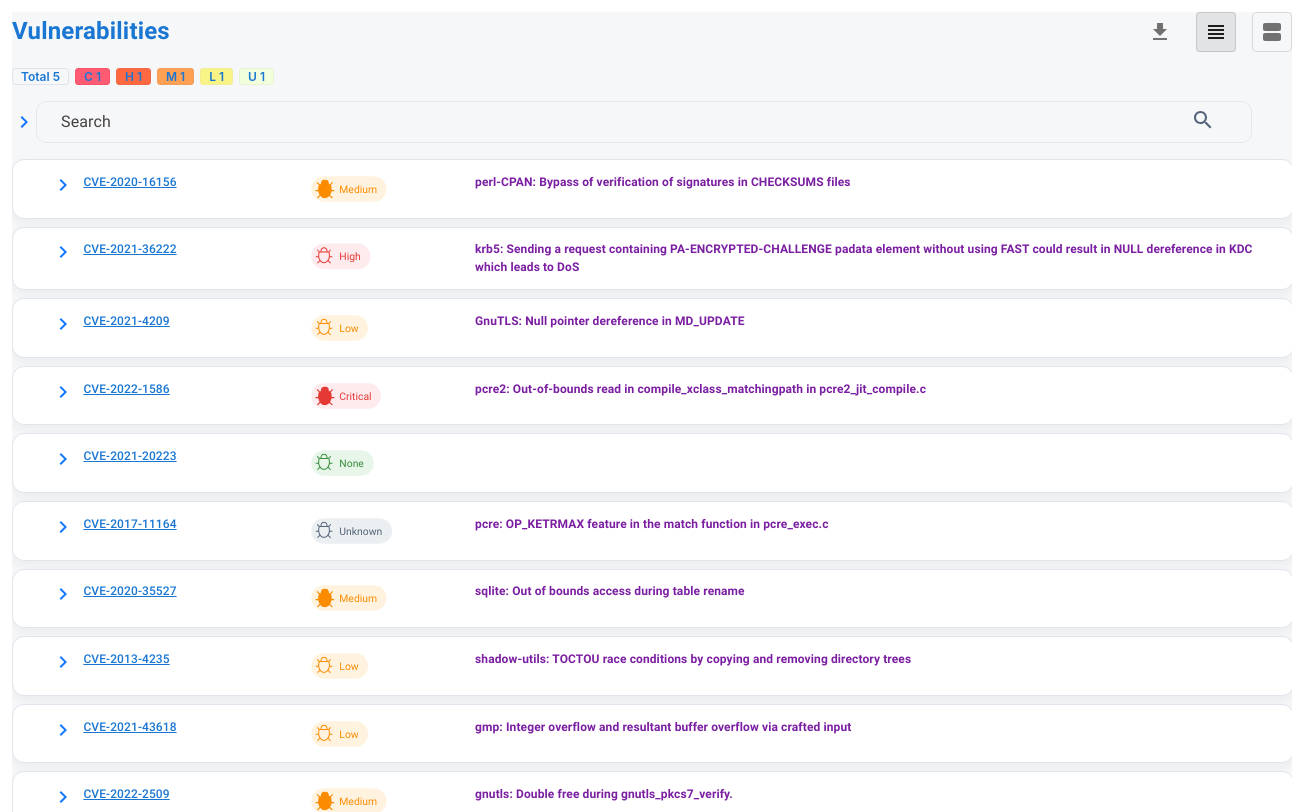
it: Vulnerabilties page › should log an error when data can't be fetched for downloading
The width and height of the screenshot is (1304, 812).
Check: the text "Vulnerabilities" is shown once, box [12,17,170,47]
Step 1. Click the button with test id "DownloadIcon" → (1160,32), box [1140,12,1180,52]
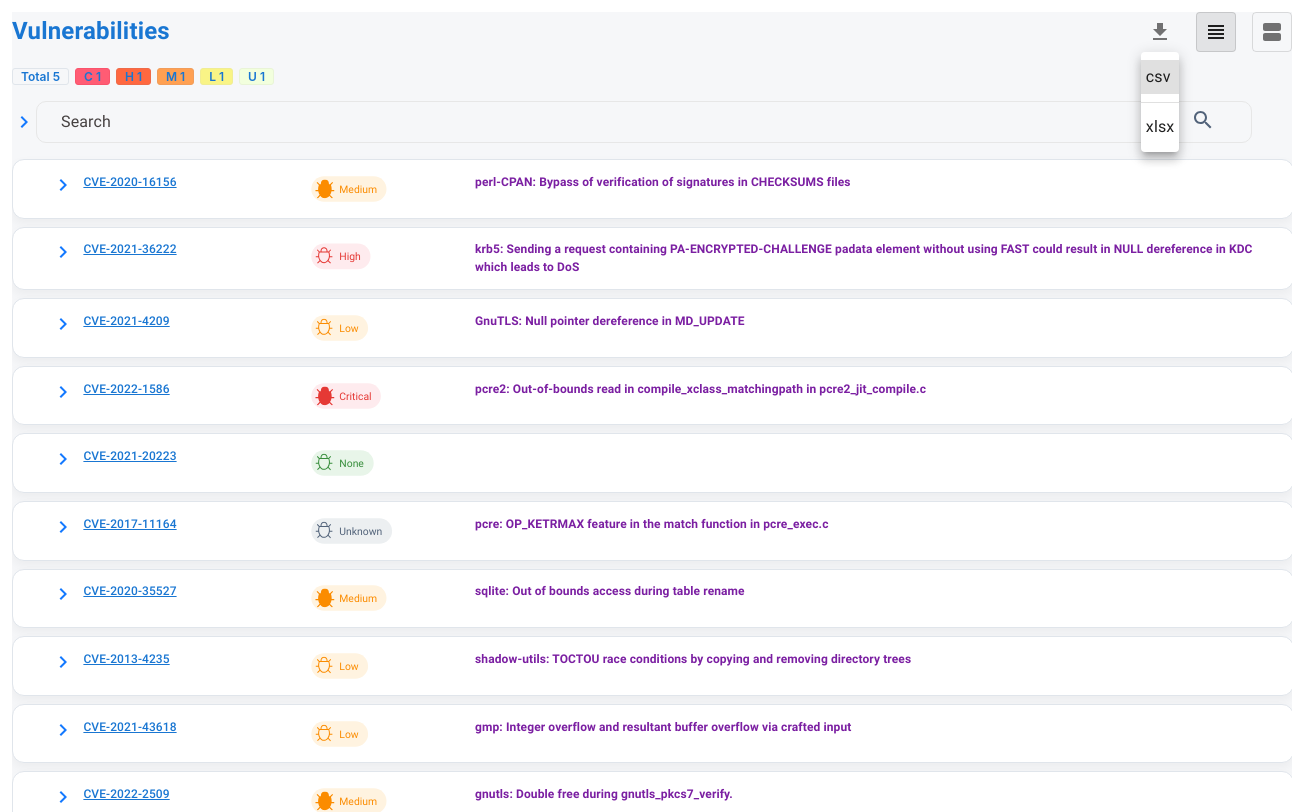
Check: the menu item with test id "export-csv-menuItem" is shown, box [1141,60,1179,94]
Check: the menu item with test id "export-excel-menuItem" is shown, box [1146,117,1174,136]
